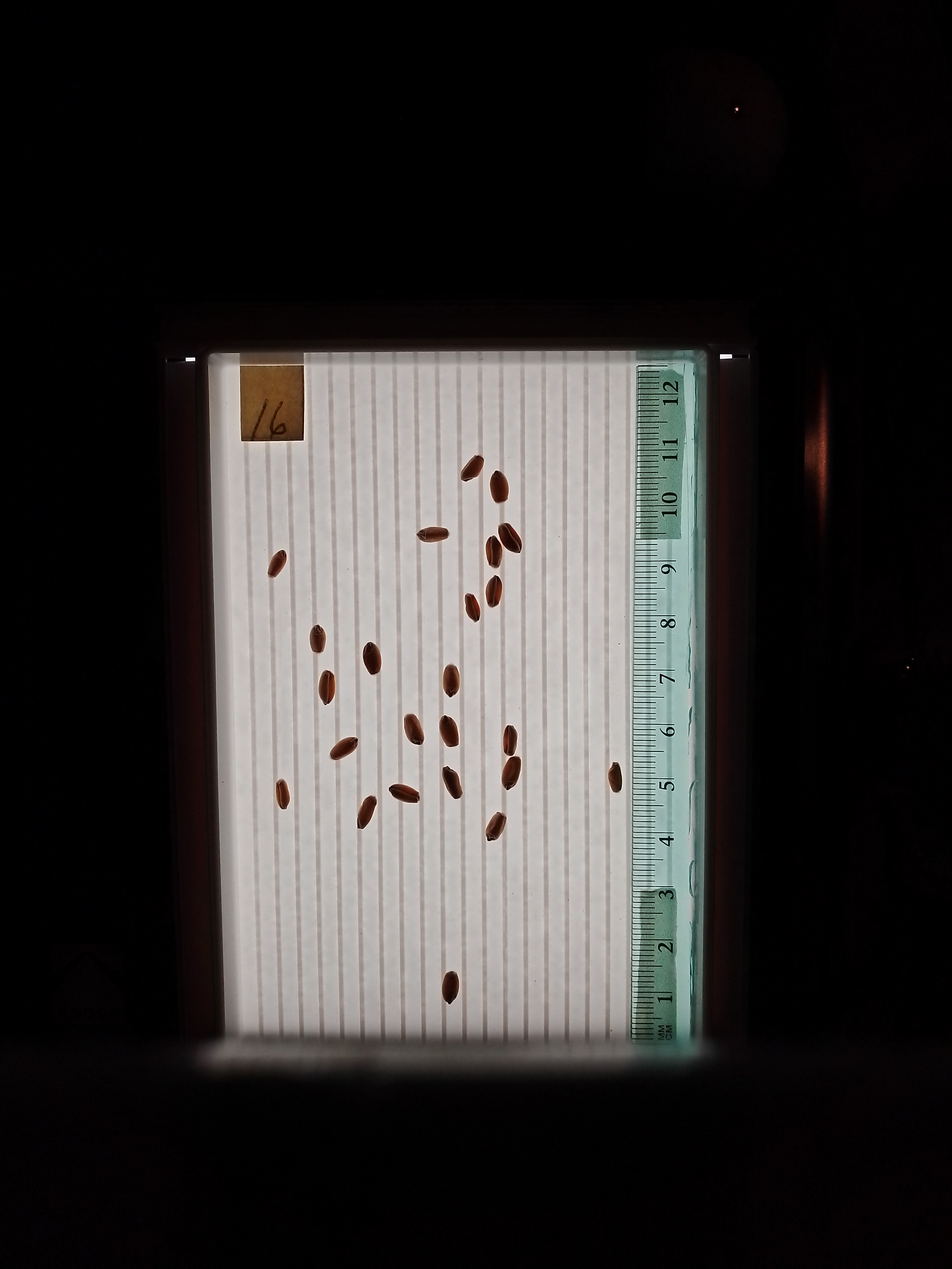seed mask: (357, 795, 377, 829), (502, 755, 521, 790), (499, 524, 521, 554), (330, 736, 357, 760), (404, 714, 424, 745), (439, 716, 459, 747), (443, 767, 462, 799), (490, 471, 508, 504), (485, 576, 503, 608), (485, 536, 503, 568), (486, 813, 506, 841), (363, 643, 381, 674), (390, 784, 419, 803), (461, 455, 483, 480), (443, 665, 460, 697), (268, 550, 287, 578), (319, 671, 335, 704), (442, 972, 459, 1003), (418, 526, 448, 543), (607, 762, 623, 792), (275, 779, 290, 809), (310, 625, 326, 653), (503, 726, 517, 755), (465, 595, 480, 621)
